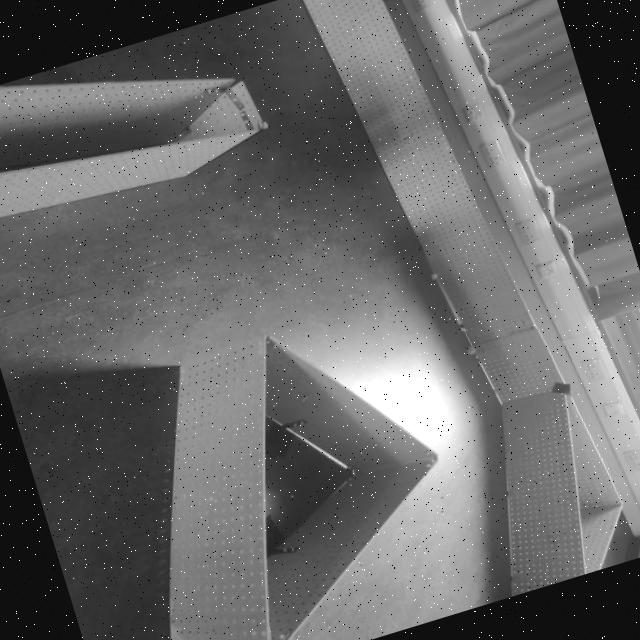ping-pong-ball: (462, 342, 478, 356)
